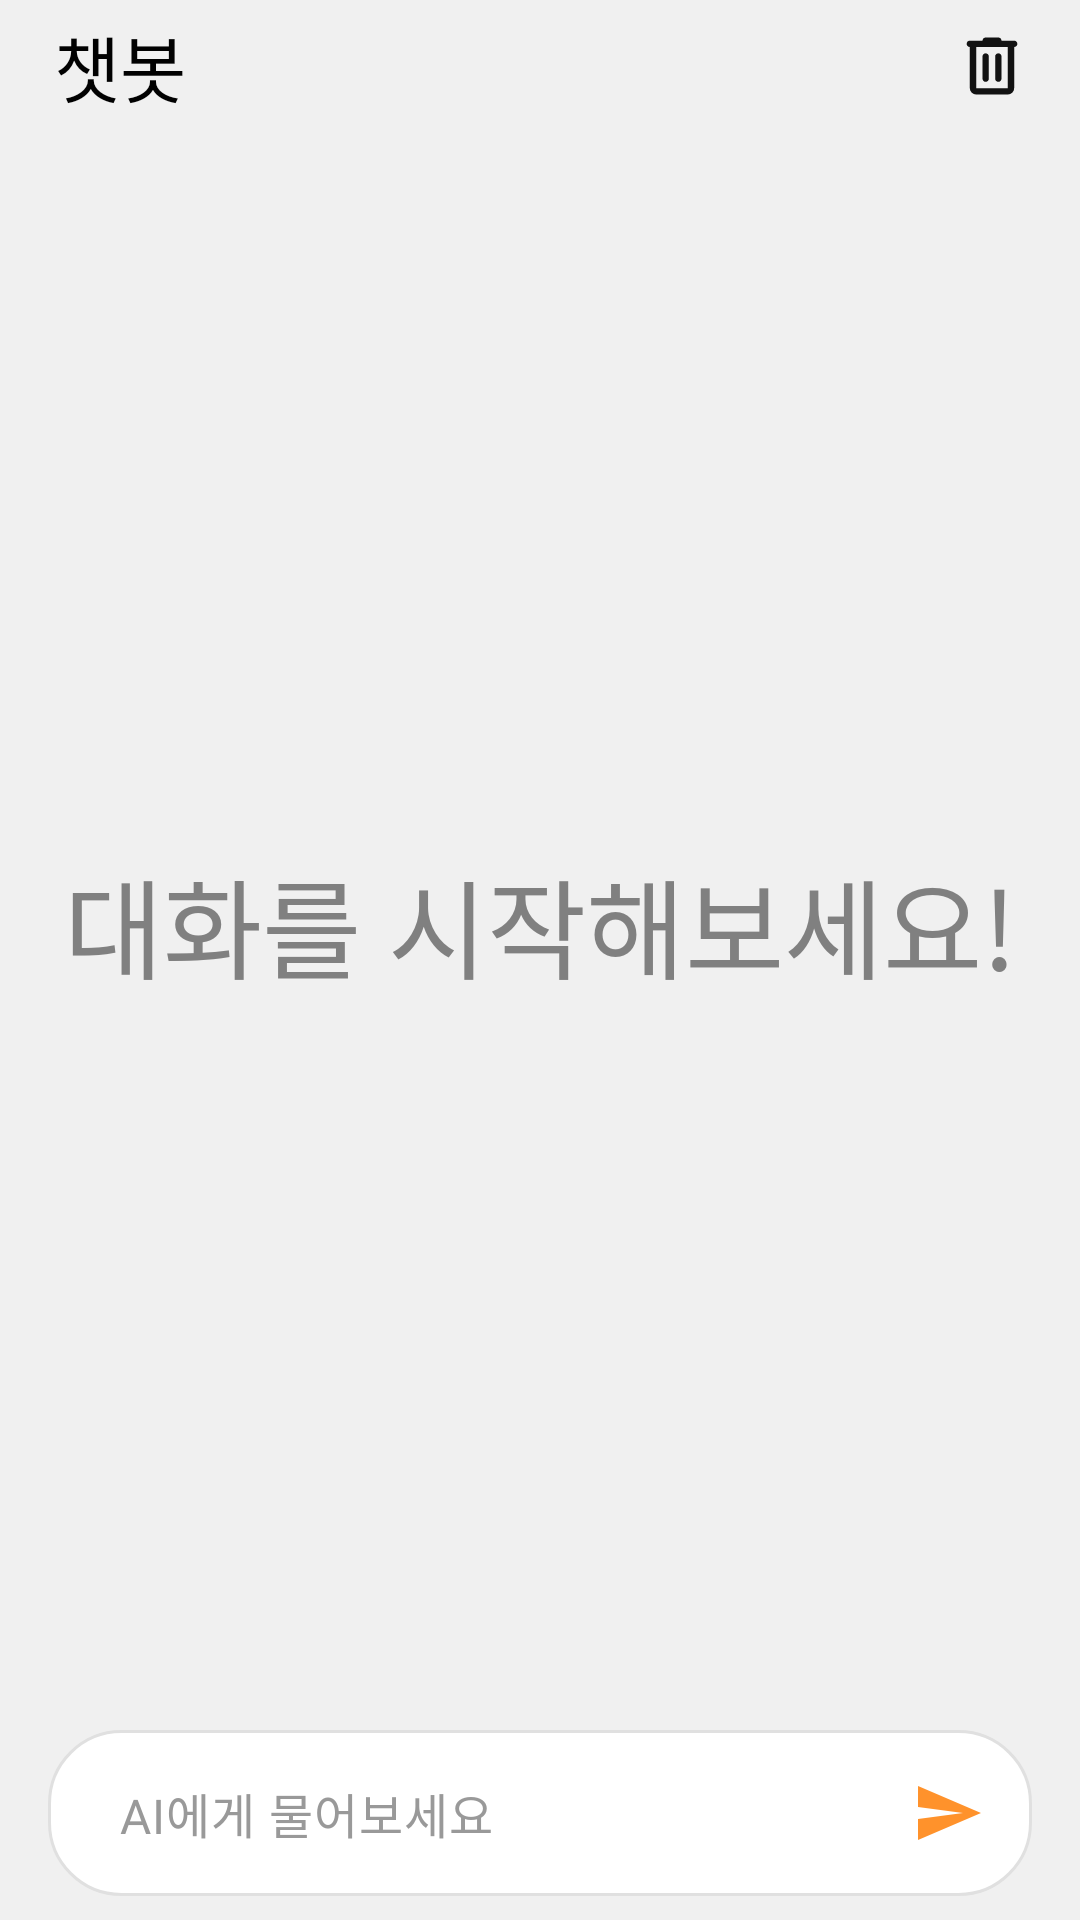

Named icons in this screenshot (1080px x 1920px) and their bounding boxes, (x1, y1, x2, y2):
delete: (966, 37, 1018, 95)
send: (918, 1786, 981, 1840)
